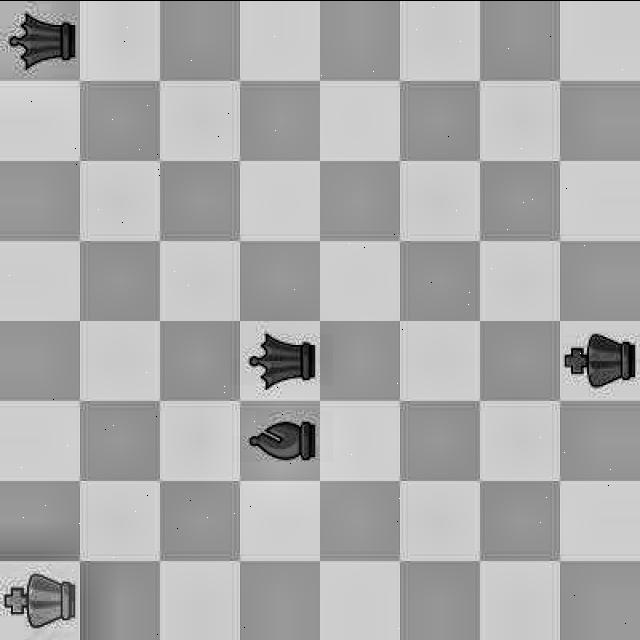black bishop: (236, 398, 316, 478)
black king: (561, 322, 640, 399)
black queen: (237, 322, 323, 398), (4, 0, 72, 80)
white king: (1, 564, 77, 640)
